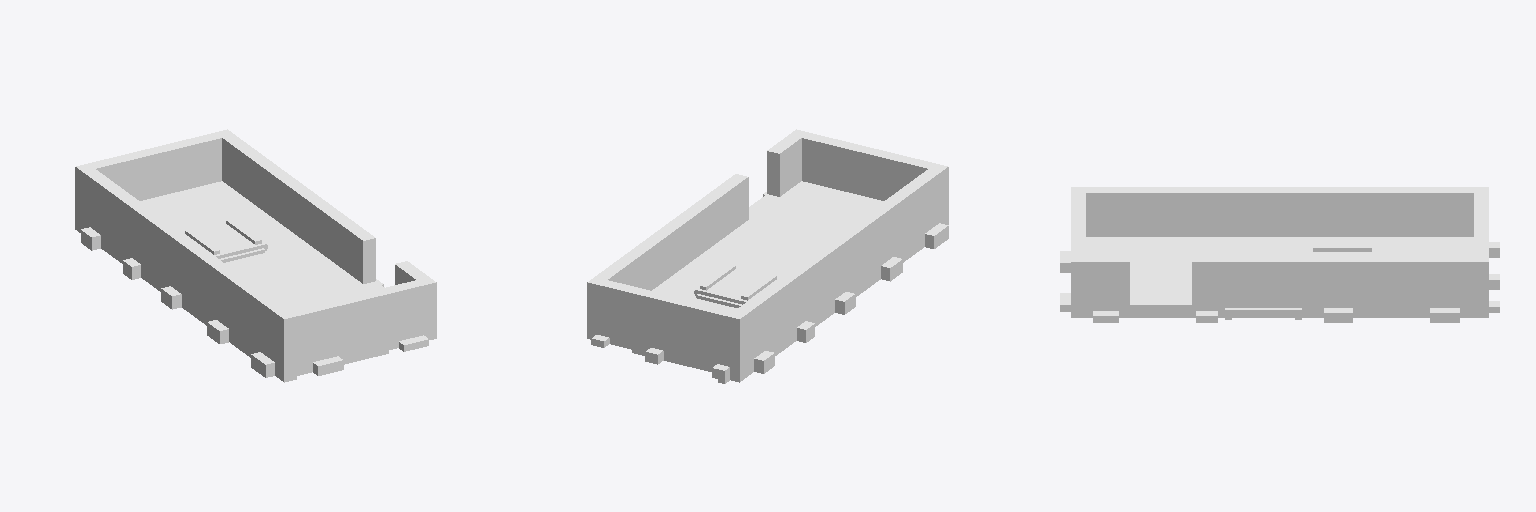
Rendered from Robot_vox-1-19.obj.
The picture shows the model from 3 angles: view 1: azimuth 30°, elevation 25°; view 2: azimuth 150°, elevation 25°; view 3: azimuth 270°, elevation 25°; orthographic projection.
Visible parts, largest first — view 1: object 1; view 2: object 1; view 3: object 1.
Boxes of the visible parts, x1,y1,x2,y2 form: object 1: [75, 129, 436, 382]; object 1: [587, 129, 948, 383]; object 1: [1060, 187, 1499, 322].
Size of the model in its own units: 5.4 by 1.9 by 12.